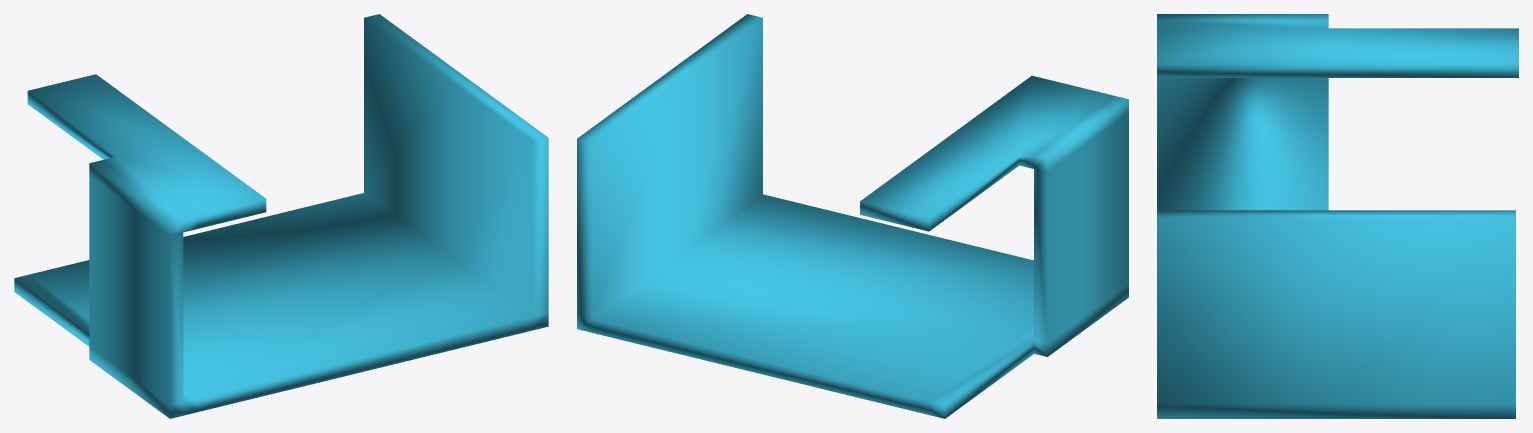
Rendered from glass4.fbx.
3 views of the same model, side by side, from view 1: azimuth 30°, elevation 25°; view 2: azimuth 150°, elevation 25°; view 3: azimuth 270°, elevation 25° (orthographic). The views are drawn at different scales.
Visible parts, largest first — view 1: Cube; view 2: Cube; view 3: Cube.
Boxes of the visible parts, bbox=[...] form: Cube: bbox=[14, 14, 548, 418]; Cube: bbox=[577, 14, 1128, 418]; Cube: bbox=[1157, 14, 1518, 418].
Size of the model in its own units: 11.07 by 5.5 by 8.63.
Materials: 1 (1 with a texture image).
